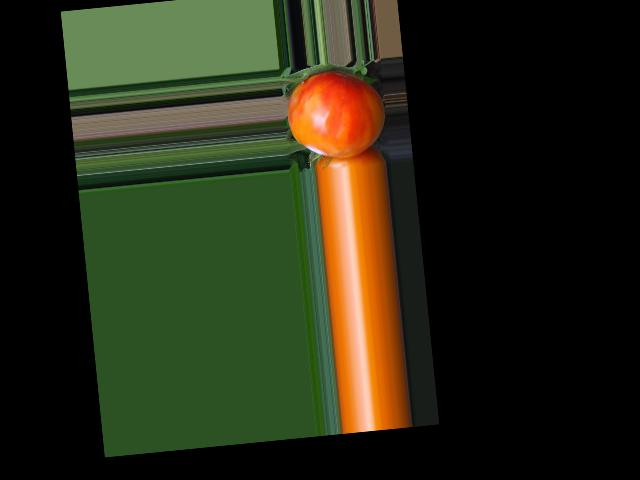tomato: (284, 67, 388, 162)
